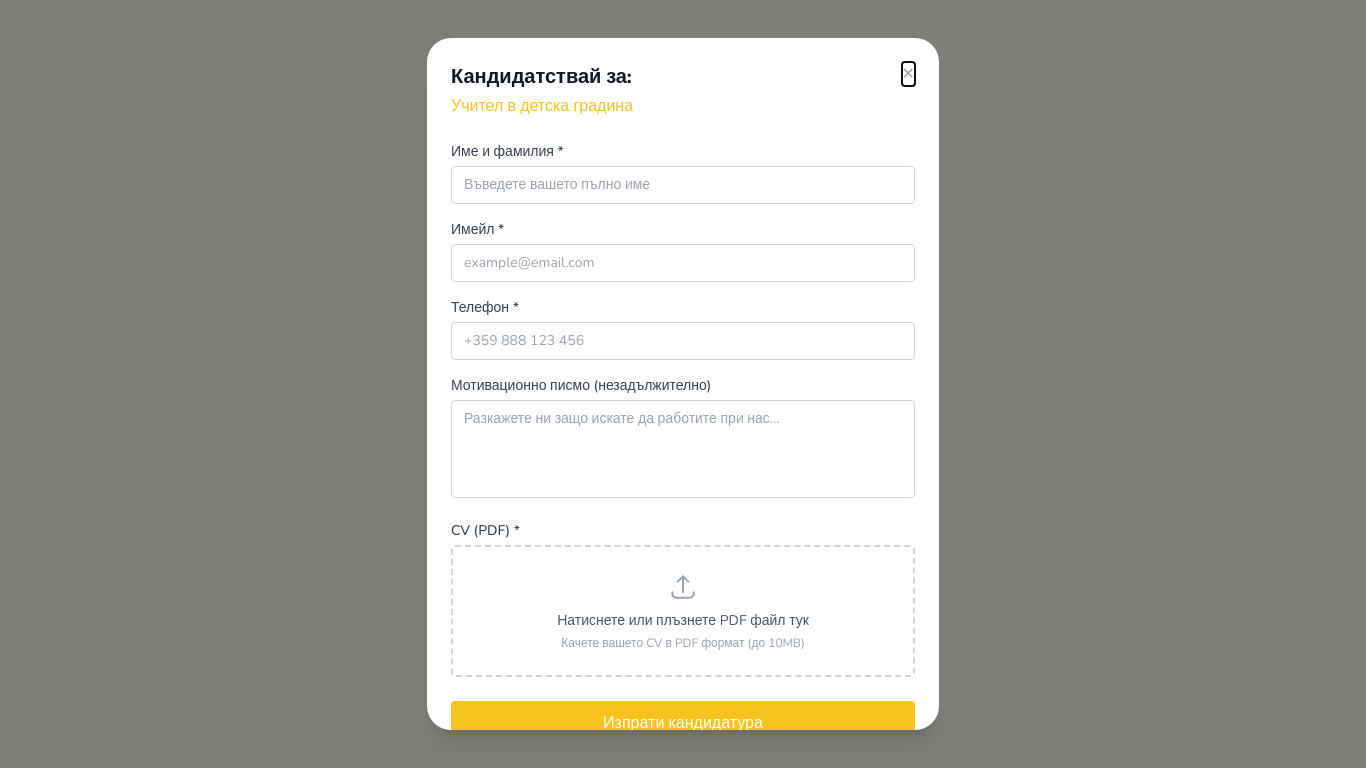
Scenario: JobApplicationModal › shows email validation error for invalid email
Type "not-an-email" into the field labelled "Имейл *".
click(683, 263); type("not-an-email")  # box [451,244,915,282]
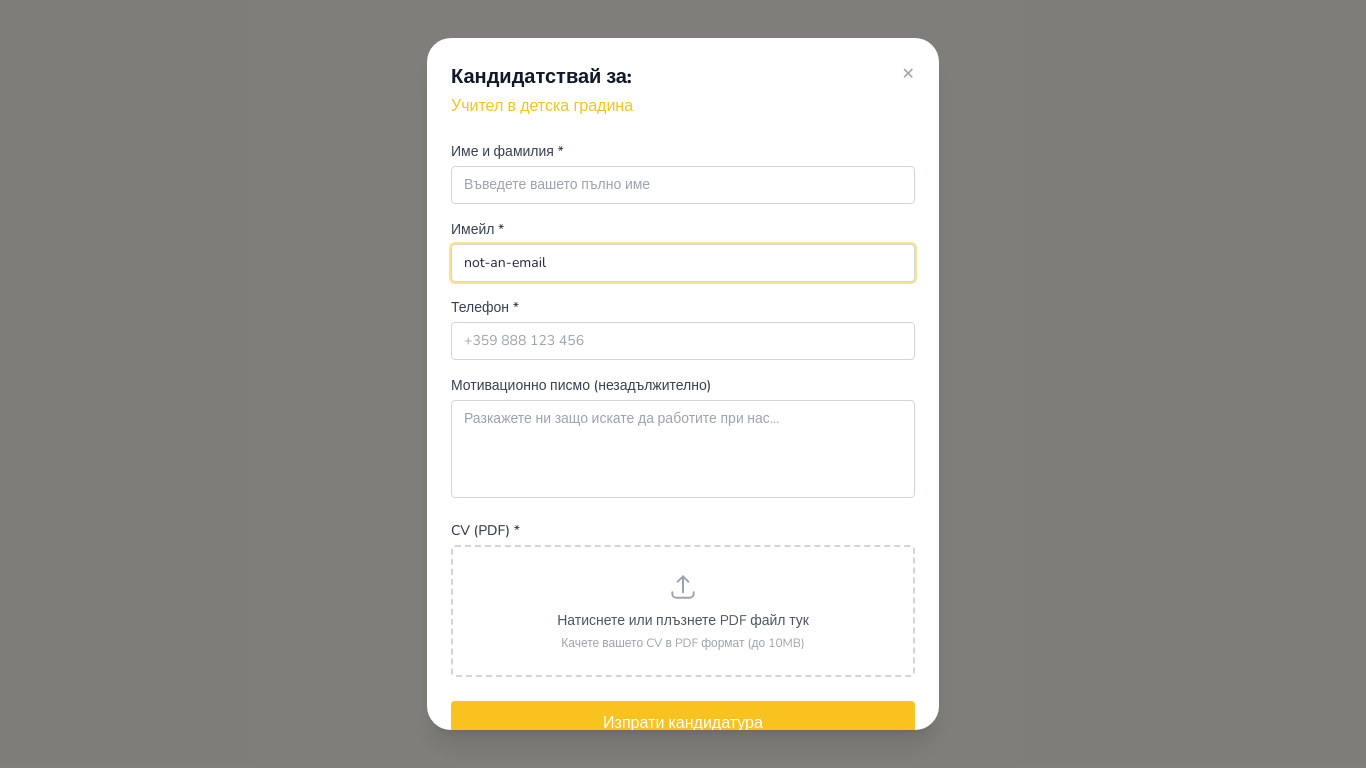
Click the button "Изпрати кандидатура".
click(683, 723)  # box [451,701,915,745]
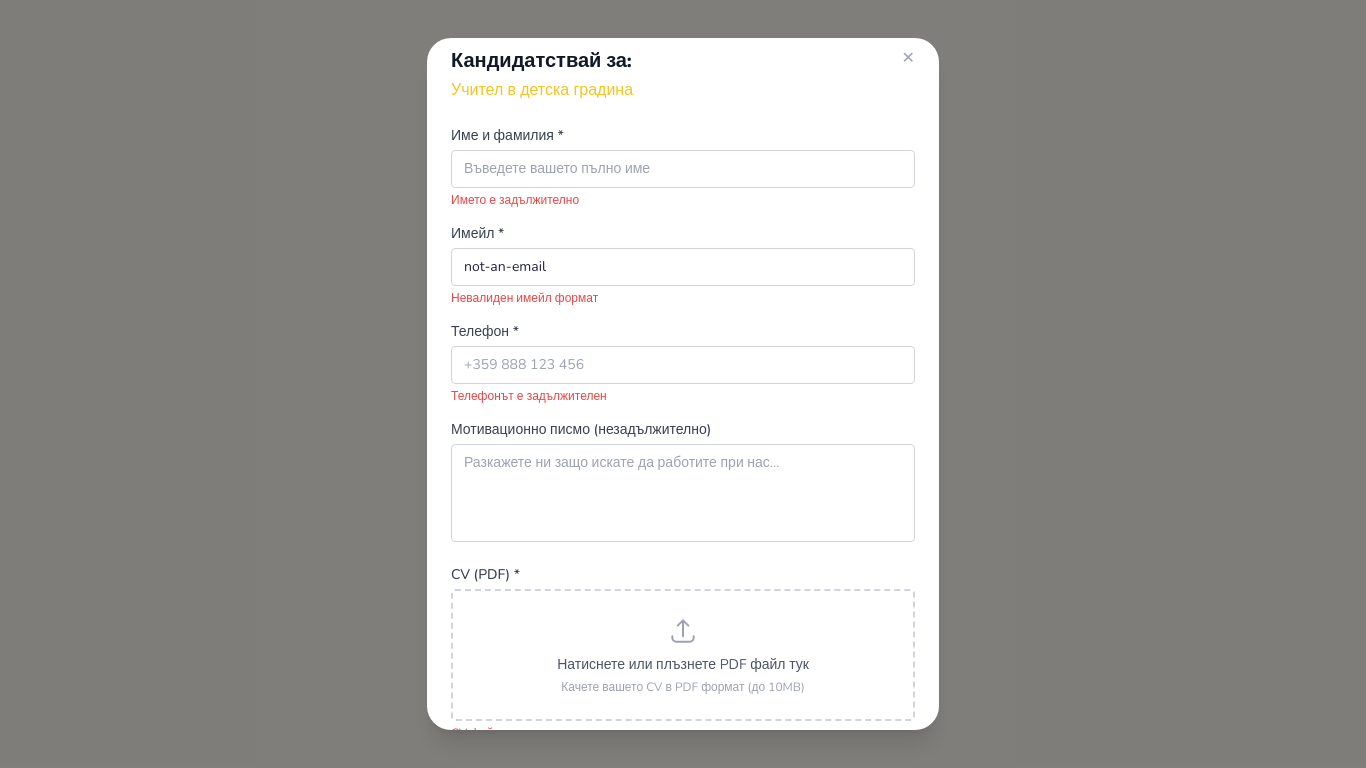
Result: the text "Невалиден имейл формат" is shown at [451,290,598,306]
